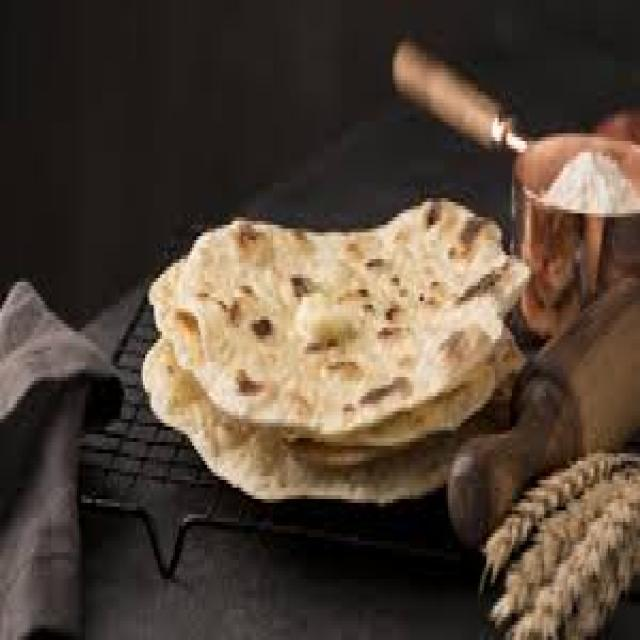ROTI: (149, 198, 527, 434), (141, 339, 476, 499)
